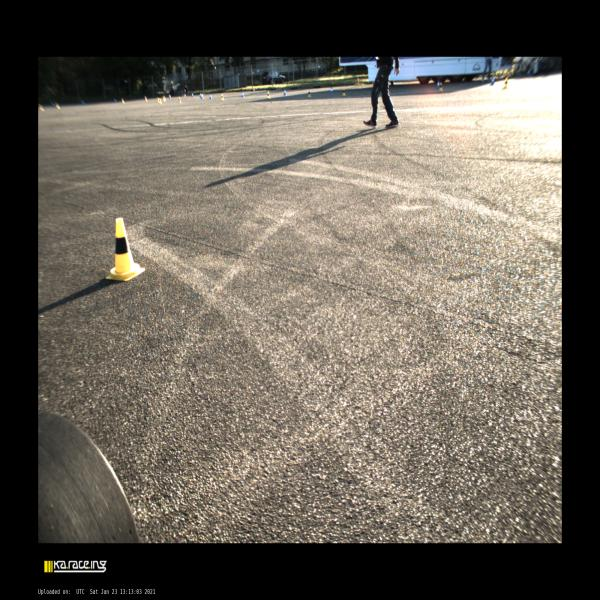blue_cone: (490, 76, 494, 85), (437, 80, 440, 88), (331, 86, 334, 94), (283, 89, 287, 95), (241, 92, 244, 98), (209, 93, 212, 99), (201, 93, 204, 98), (169, 94, 171, 99), (200, 93, 202, 97), (201, 94, 203, 98), (192, 93, 194, 97), (82, 101, 84, 105), (115, 99, 117, 102)
yellow_cone: (106, 218, 145, 281), (502, 76, 508, 89), (439, 82, 443, 92), (342, 88, 346, 96), (39, 104, 44, 110), (267, 91, 270, 99), (178, 97, 182, 103), (56, 103, 60, 109), (308, 90, 311, 97), (221, 94, 224, 100), (159, 98, 162, 104), (145, 96, 148, 101), (121, 98, 124, 103), (164, 95, 166, 101), (163, 96, 165, 102), (157, 97, 159, 102)
